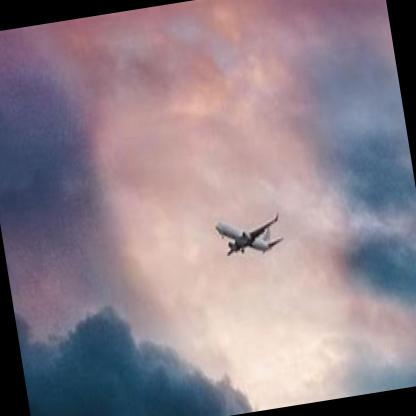plane: (207, 198, 295, 275)
